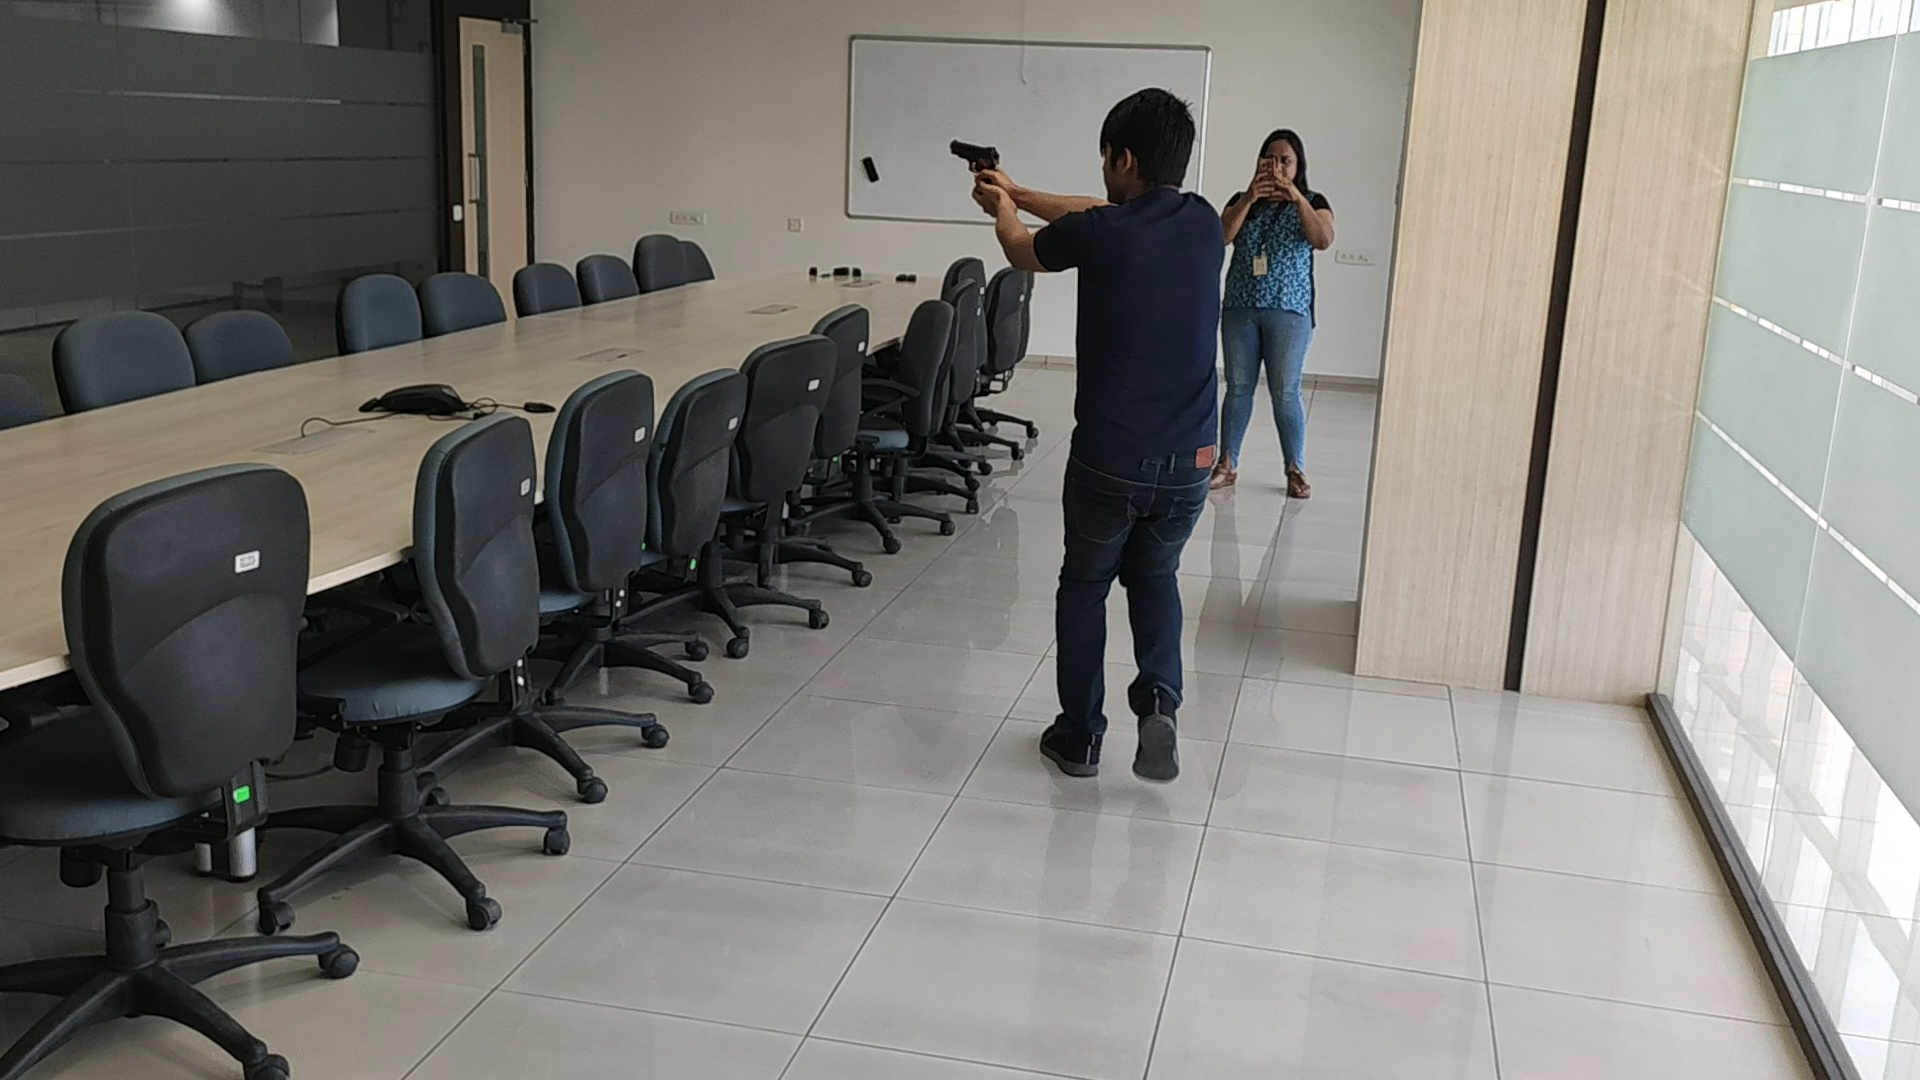gun: (947, 137, 1000, 185)
